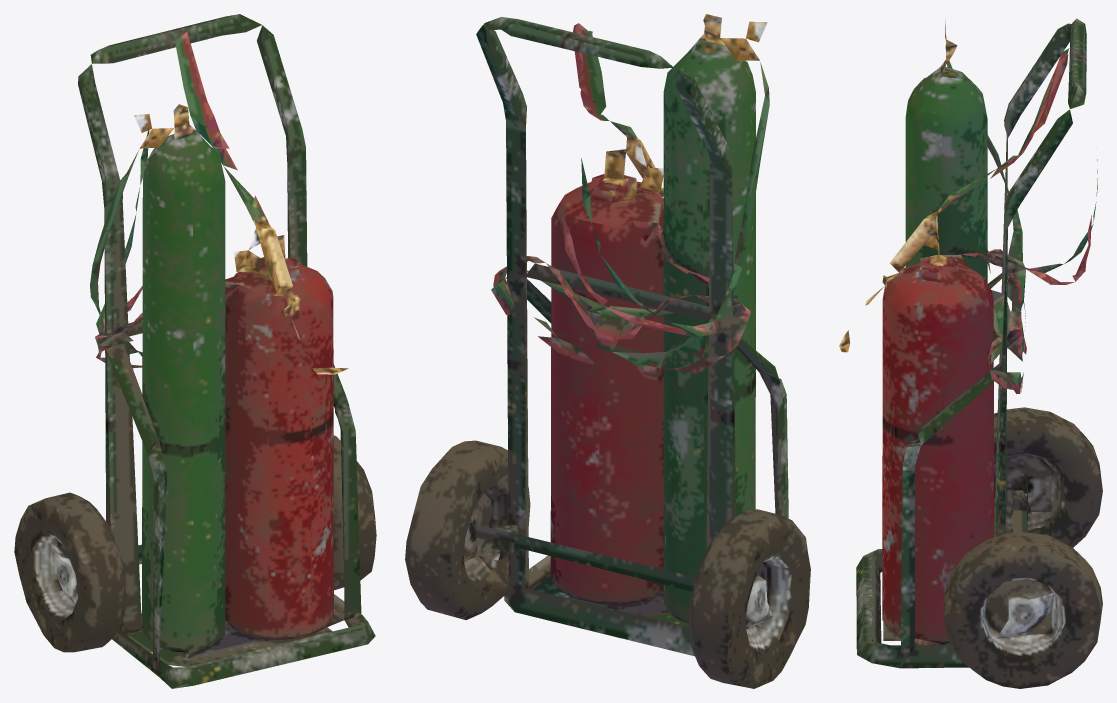
Rendered from portable_welding_cart.glb.
The picture shows the model from 3 angles, left to right: view 1: azimuth 30°, elevation 25°; view 2: azimuth 150°, elevation 25°; view 3: azimuth 270°, elevation 25°; orthographic projection. The views are drawn at different scales.
Parts seen in each view (by area): view 1: mesh; view 2: mesh; view 3: mesh.
Boxes of the visible parts, box(x1,y1,x2,y2) form: mesh: box(14, 14, 376, 688); mesh: box(405, 14, 810, 688); mesh: box(839, 17, 1102, 688).
Size of the model in its own units: 0.8473 by 1.56 by 0.6553.
Materials: 1 (1 with a texture image).
